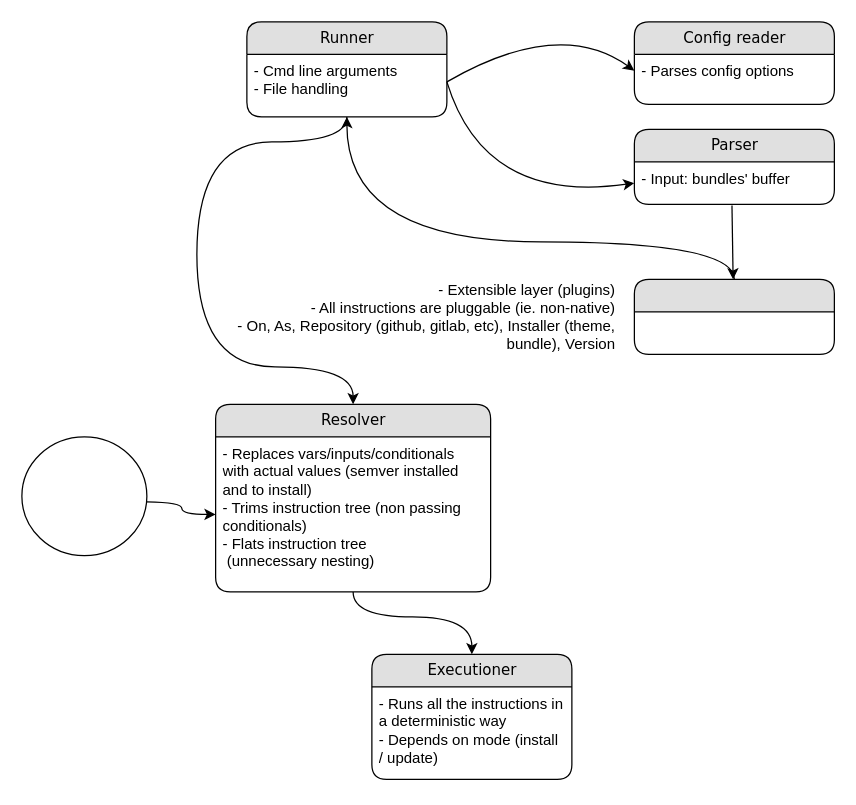
Some shapes in this 856 by 805 pixel diagram are drawn without their labels. Here are the shapes that lost their labels. From the top down, the centre of each, then its label:
the point at 733,316: Instruction Tree
the point at 84,496: Cache layer for instructions
